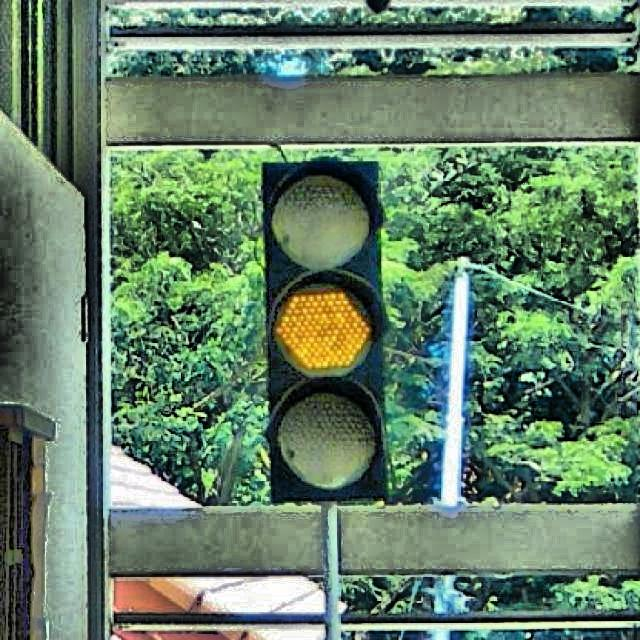yellow: (264, 160, 386, 502)
